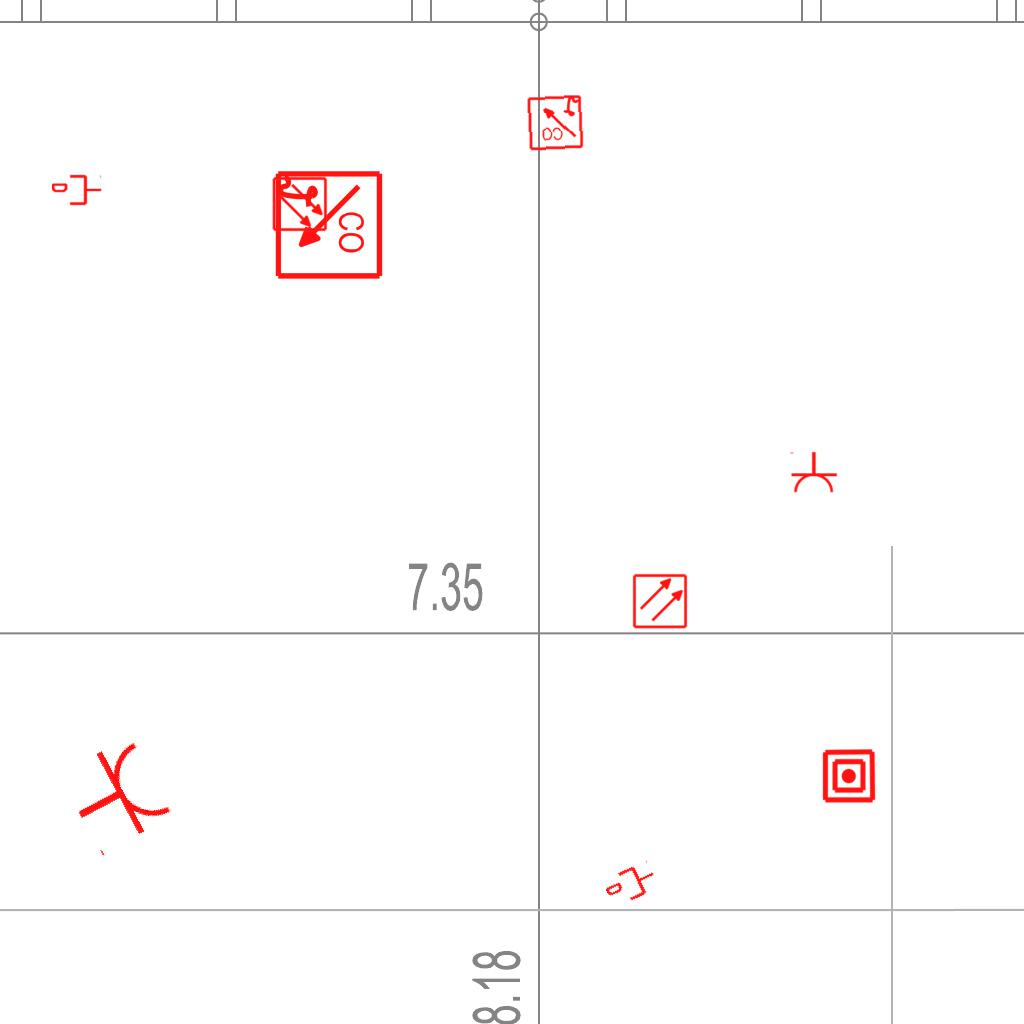Datenanschluss_einfach: (601, 858, 661, 910), (52, 173, 102, 207)
NAM-Nichtautomatischer_Melder: (821, 748, 877, 804)
RMO_Rauchmelder_optischer: (632, 573, 688, 629), (272, 176, 328, 232)
ROA_Rauchmelder_optisch_mit_Signalgeber_(Sockelsirene): (271, 169, 384, 282), (525, 92, 585, 152)
Schukosteckdose_einfach: (55, 732, 180, 862), (788, 451, 838, 494)
